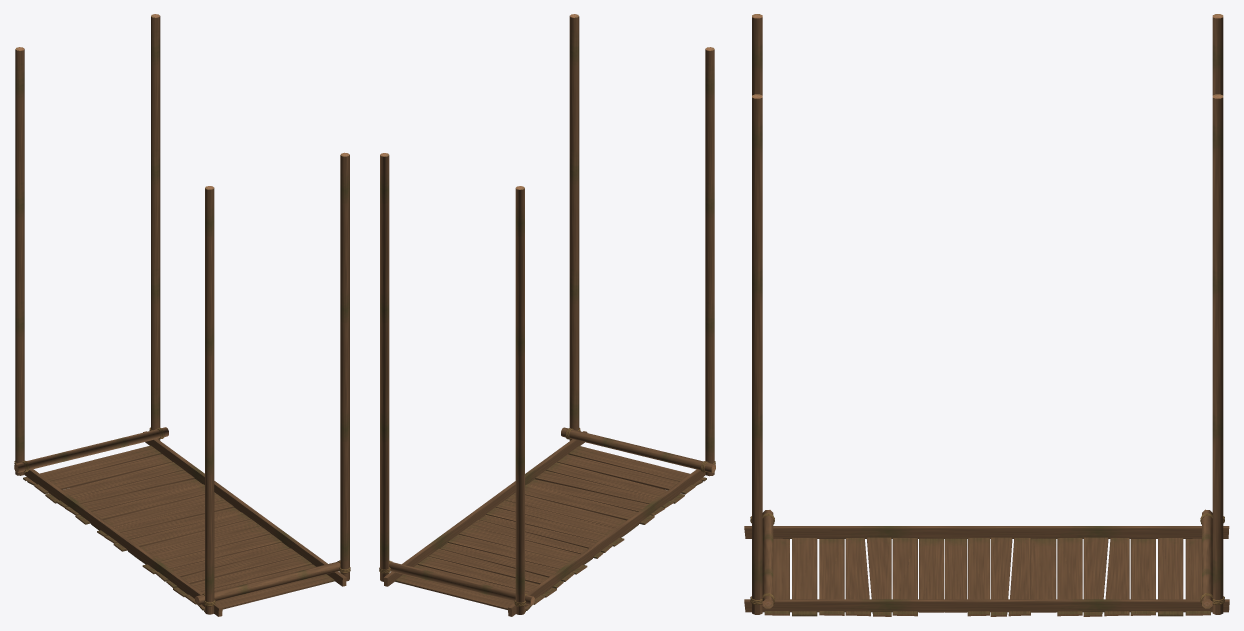
The picture shows the model from 3 angles, left to right: view 1: azimuth 30°, elevation 25°; view 2: azimuth 150°, elevation 25°; view 3: azimuth 270°, elevation 25°; orthographic projection. The views are drawn at different scales.
Parts seen in each view (by area): view 1: PierSegment001; view 2: PierSegment001; view 3: PierSegment001.
Part boxes in pixels (left/top/right/bottom): PierSegment001: left=14, top=14, right=350, bottom=616; PierSegment001: left=379, top=14, right=715, bottom=616; PierSegment001: left=744, top=14, right=1229, bottom=616.
Bounding box in the file's own units: 5.5 × 14.94 × 12.65.
Materials: 1 (1 with a texture image).
